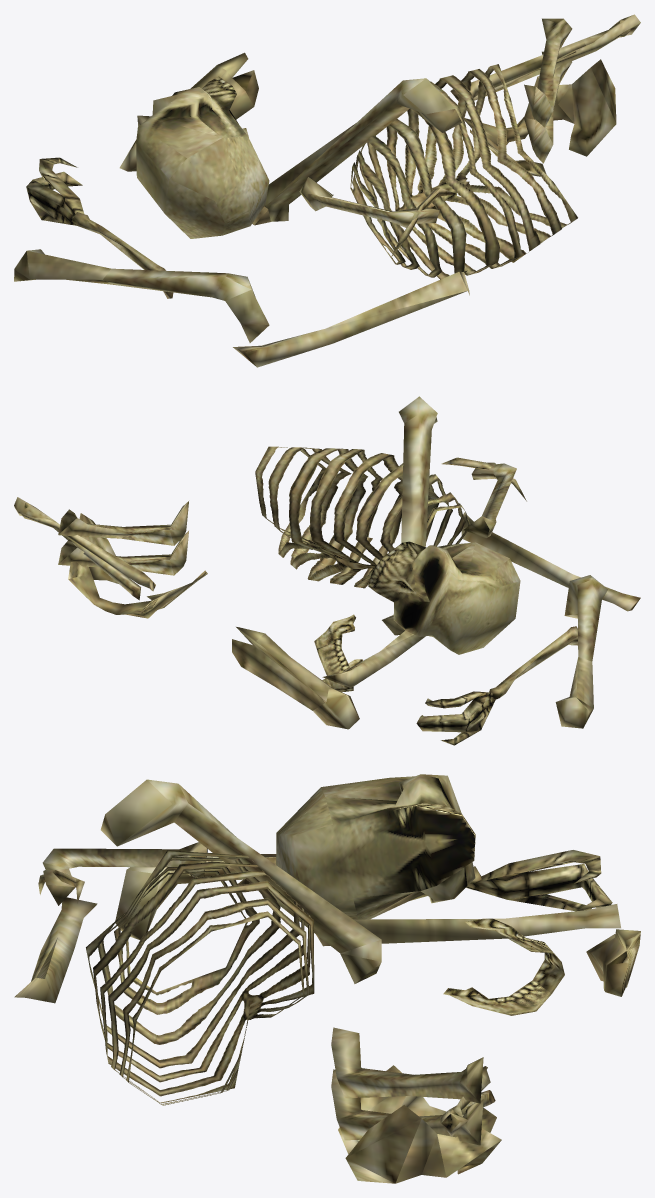
The model's file is obj_small_044.FBX.
3 renders of one model, top to bottom at view 1: azimuth 30°, elevation 25°; view 2: azimuth 150°, elevation 25°; view 3: azimuth 270°, elevation 25°, orthographic. The views are drawn at different scales.
Parts seen in each view (by area): view 1: obj_small_044_01; view 2: obj_small_044_01; view 3: obj_small_044_01.
Boxes of the visible parts, x1,y1,x2,y2 form: obj_small_044_01: (14, 14, 640, 367); obj_small_044_01: (14, 396, 640, 745); obj_small_044_01: (14, 774, 640, 1183).
Bounding box in the file's own units: 1.06 × 0.3491 × 0.7199.
